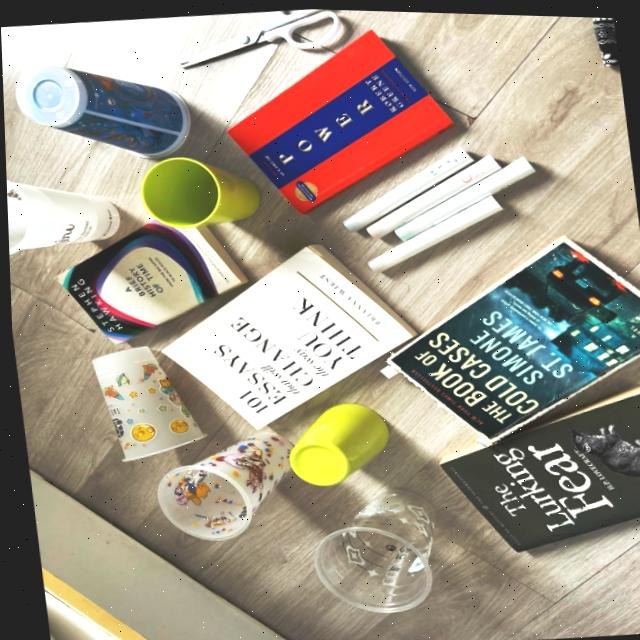Book: (387, 238, 640, 435), (160, 243, 413, 425), (226, 28, 452, 212), (436, 383, 640, 547), (56, 219, 243, 340)
HighLight Pen: (393, 154, 533, 241), (367, 153, 500, 234), (343, 145, 471, 228), (367, 192, 501, 269)
Plastic Cup: (16, 64, 189, 156), (310, 489, 429, 610), (154, 431, 285, 539), (90, 346, 201, 460), (5, 180, 118, 253)
Scissors: (181, 7, 348, 68)
WaterGlass: (140, 156, 259, 227), (286, 401, 384, 483)
